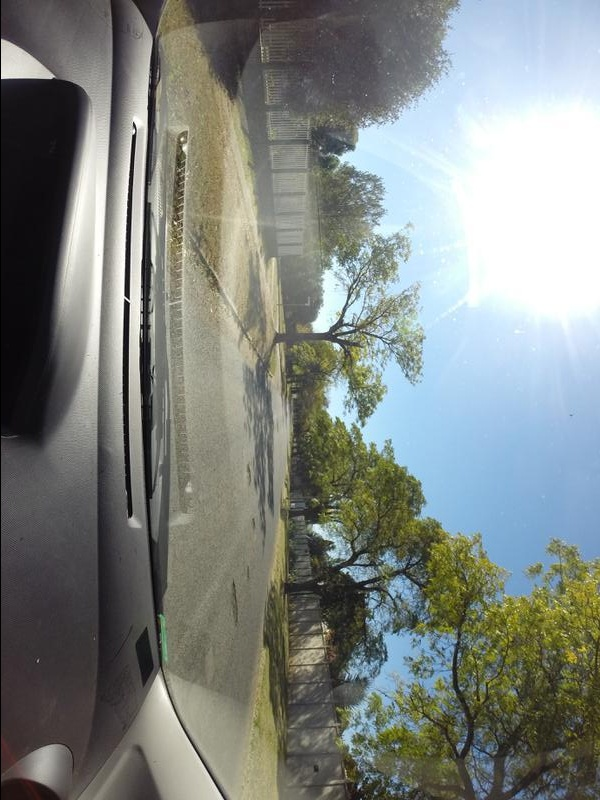pothole: (229, 582, 240, 628), (239, 463, 252, 497), (243, 518, 259, 540), (245, 567, 250, 579)
